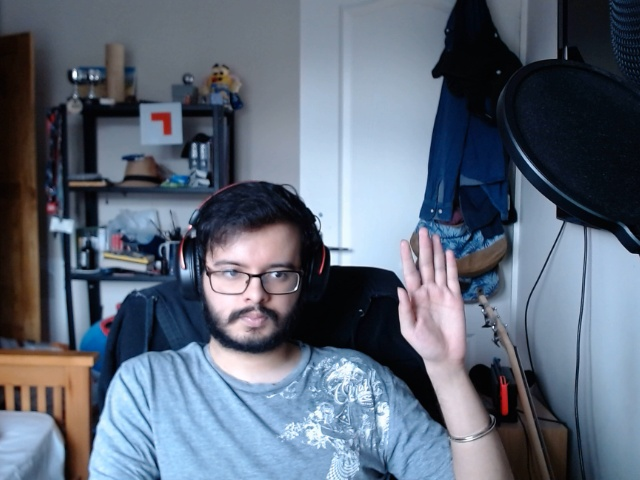Hello: (389, 223, 479, 373)
